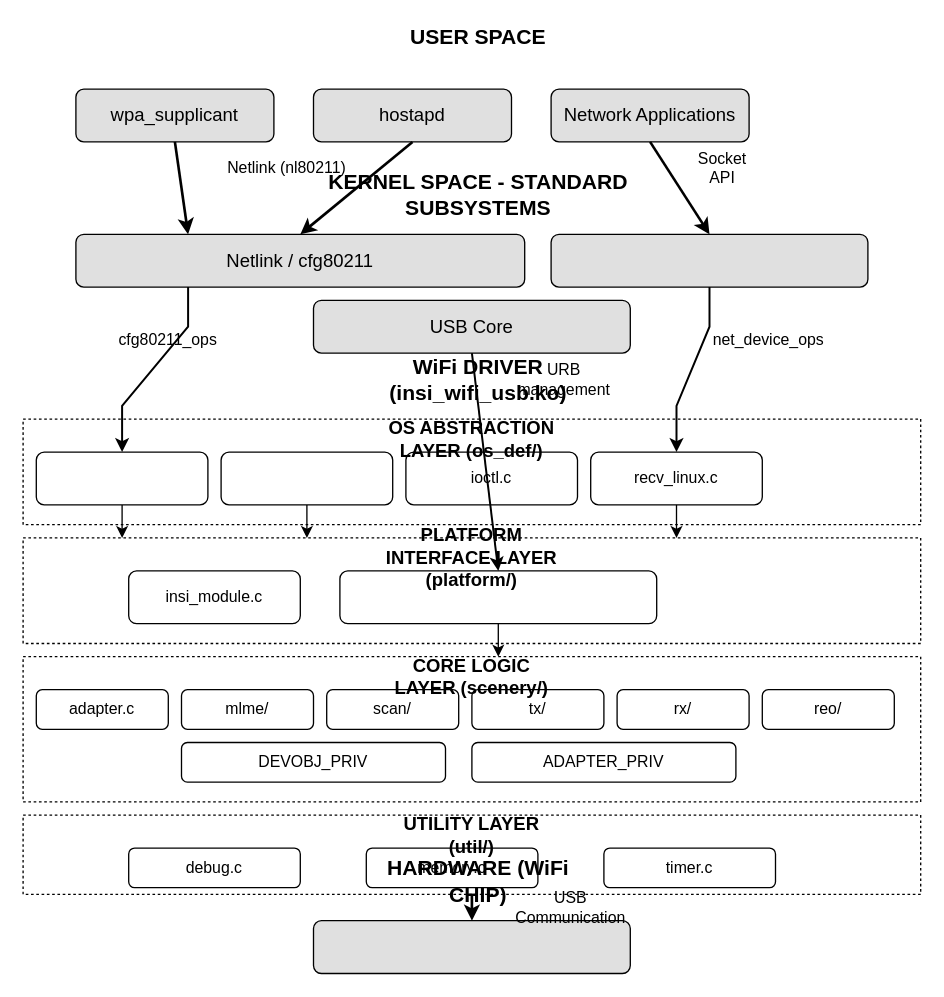
Some shapes in this 944 by 997 pixel diagram are drawn without their labels. The centre of each missing label's shape, as x and y in pixels:
cfg80211_ops.c: point 121,478
insi_intf.c: point 306,478
Networking Stack (TCP/IP): point 709,260
usb/insi_usb.c (probe, disconnect, URB): point 498,597
WiFi 7 Firmware (802.11be FullMAC): point 471,946
